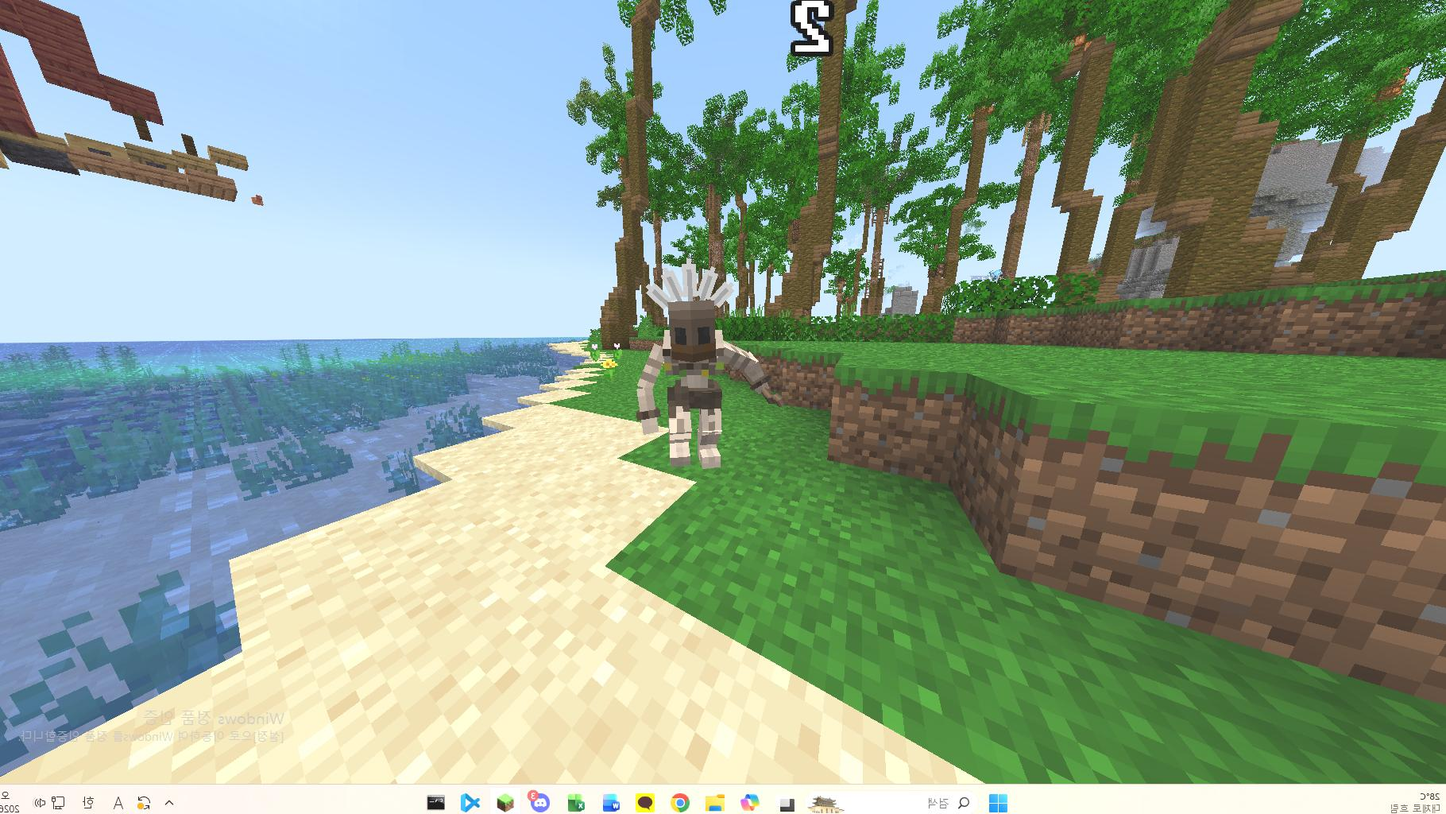bow_indian: (594, 268, 793, 503)
